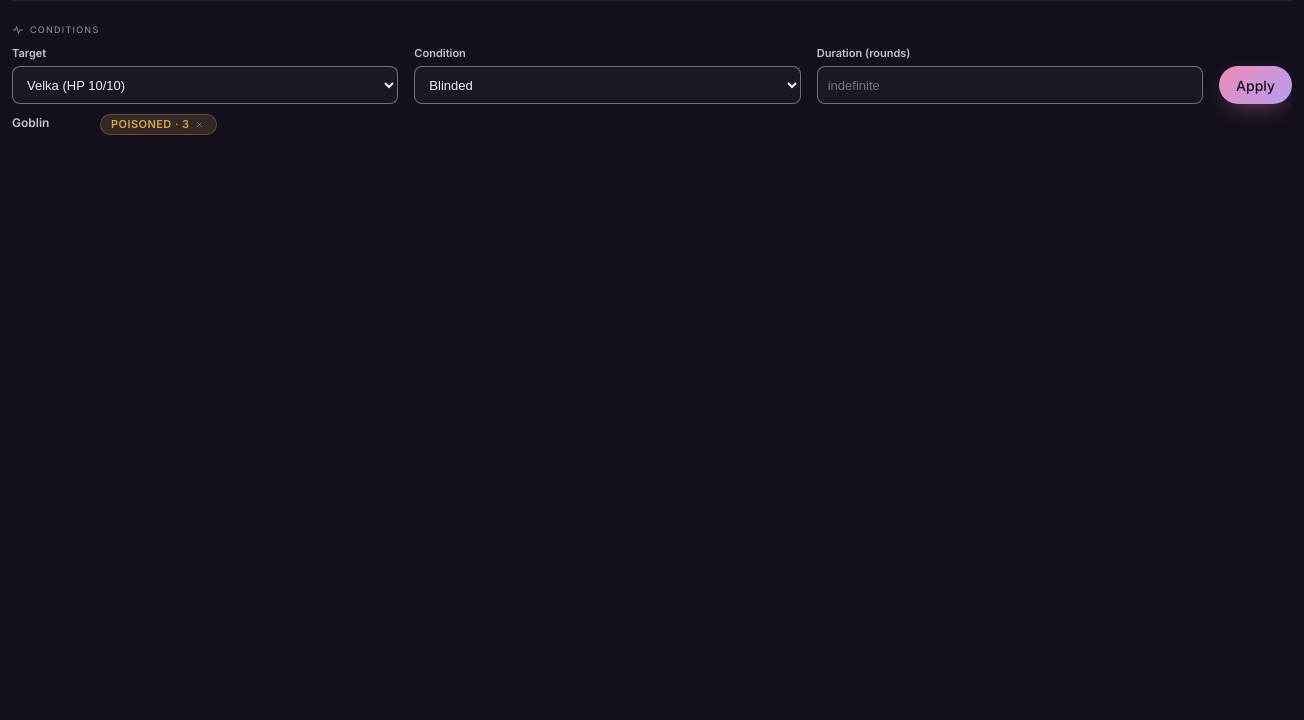
Scenario: ConditionsPanel — apply wiring › shows a success toast naming the condition, target, and duration
Select "Velka (HP 10/10)" in the dropdown labelled "Target" at (205,85), box [12,66,398,104]
Select "Poisoned" in the dropdown labelled "Condition" at (608,85), box [414,66,801,104]
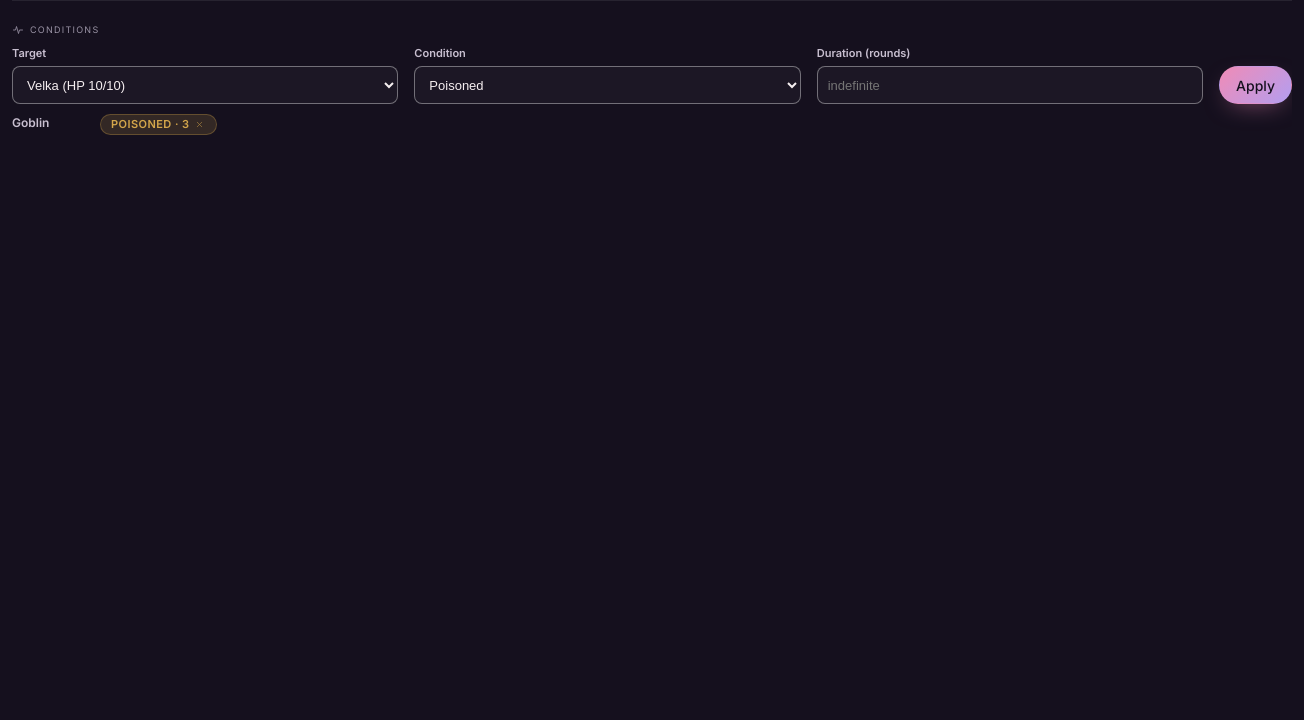
Type "2" into the number field labelled "Duration (rounds)" at (1010,85), box [817,66,1203,104]
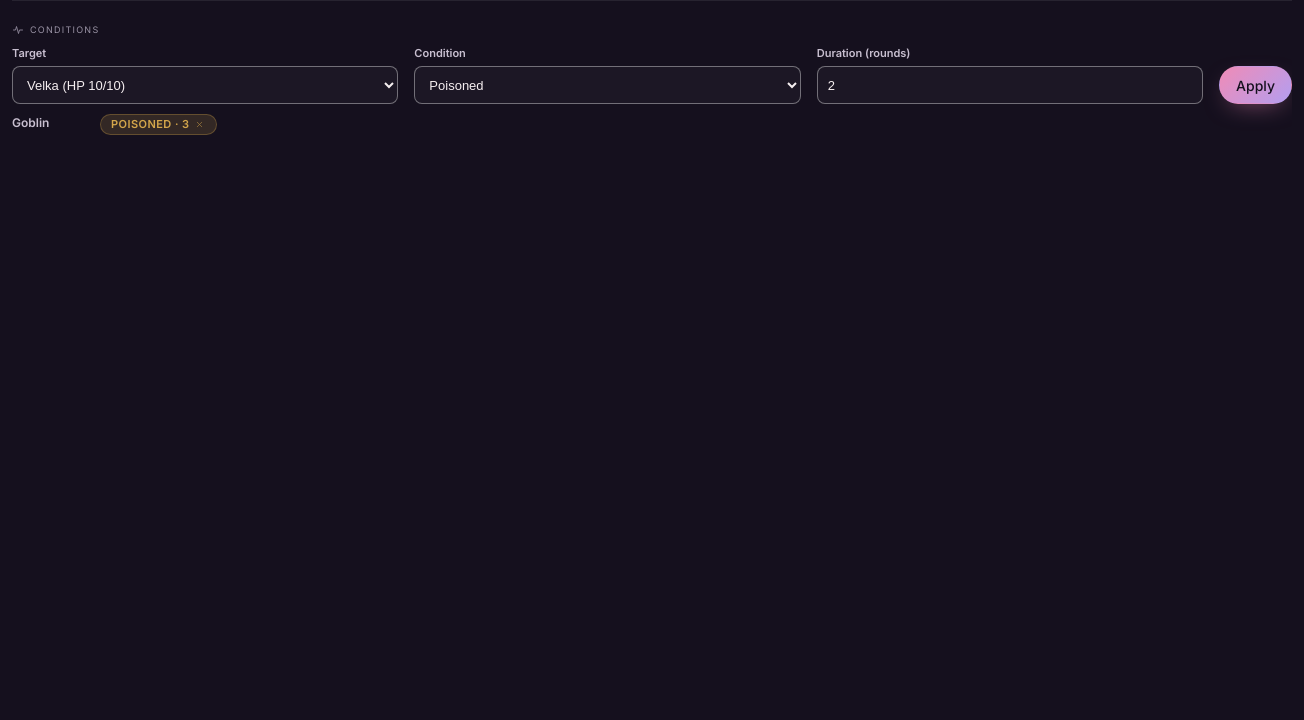
Click the button "Apply " at (1256,85), box [1219,66,1292,104]
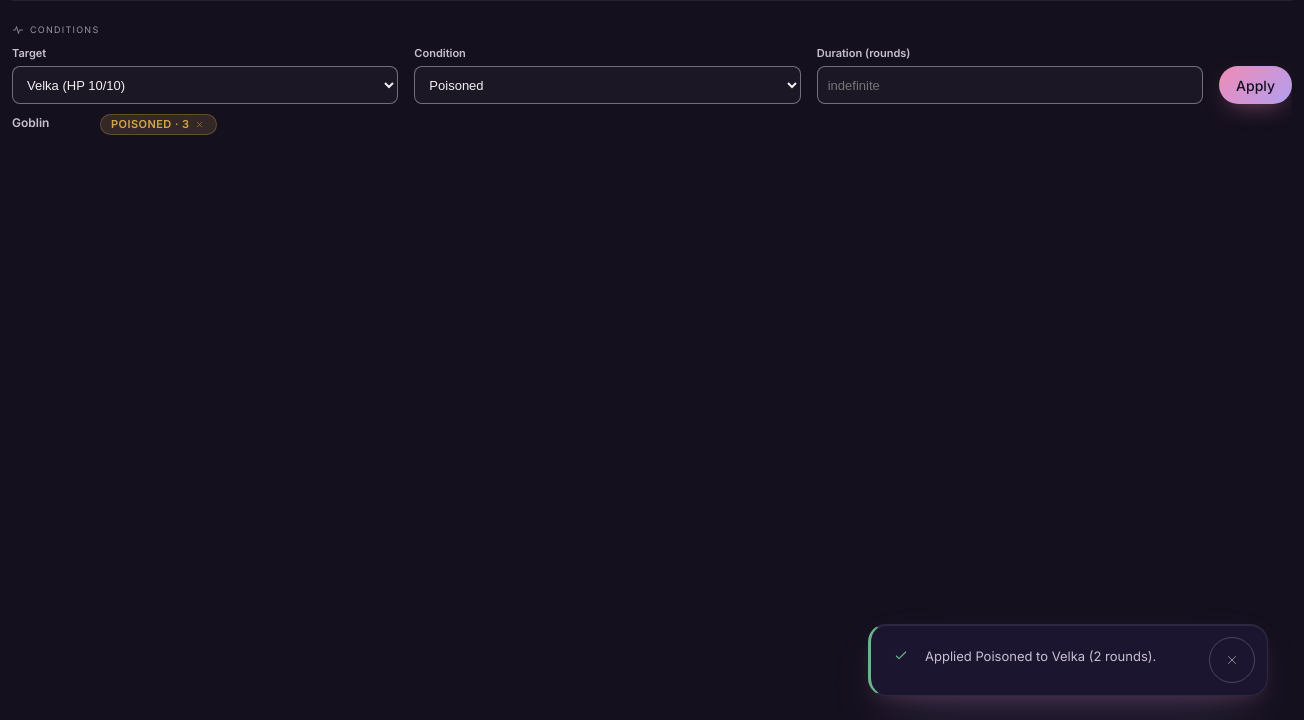
Expected: the text "Applied Poisoned to Velka (2 rounds)." is shown, [925,648,1156,664]
